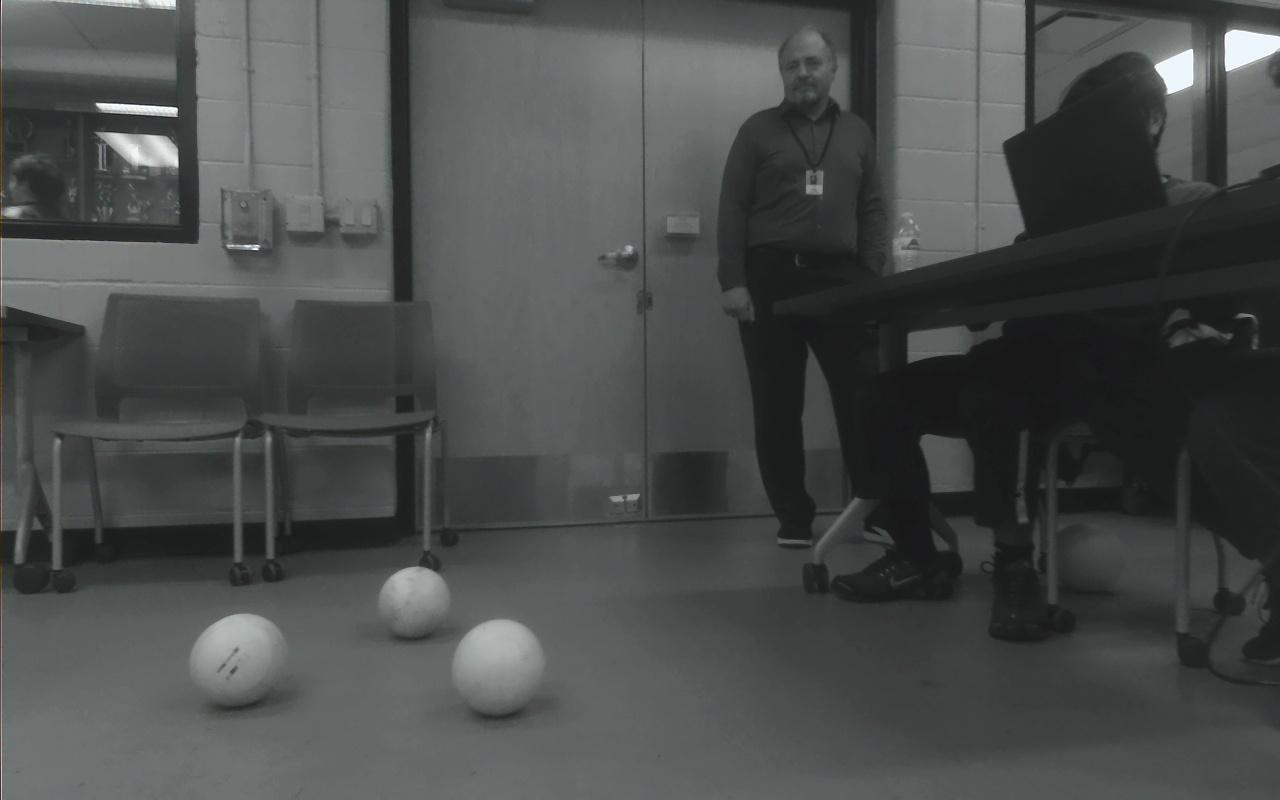Fuel: (189, 612, 289, 706), (452, 619, 547, 716), (376, 566, 451, 639)
